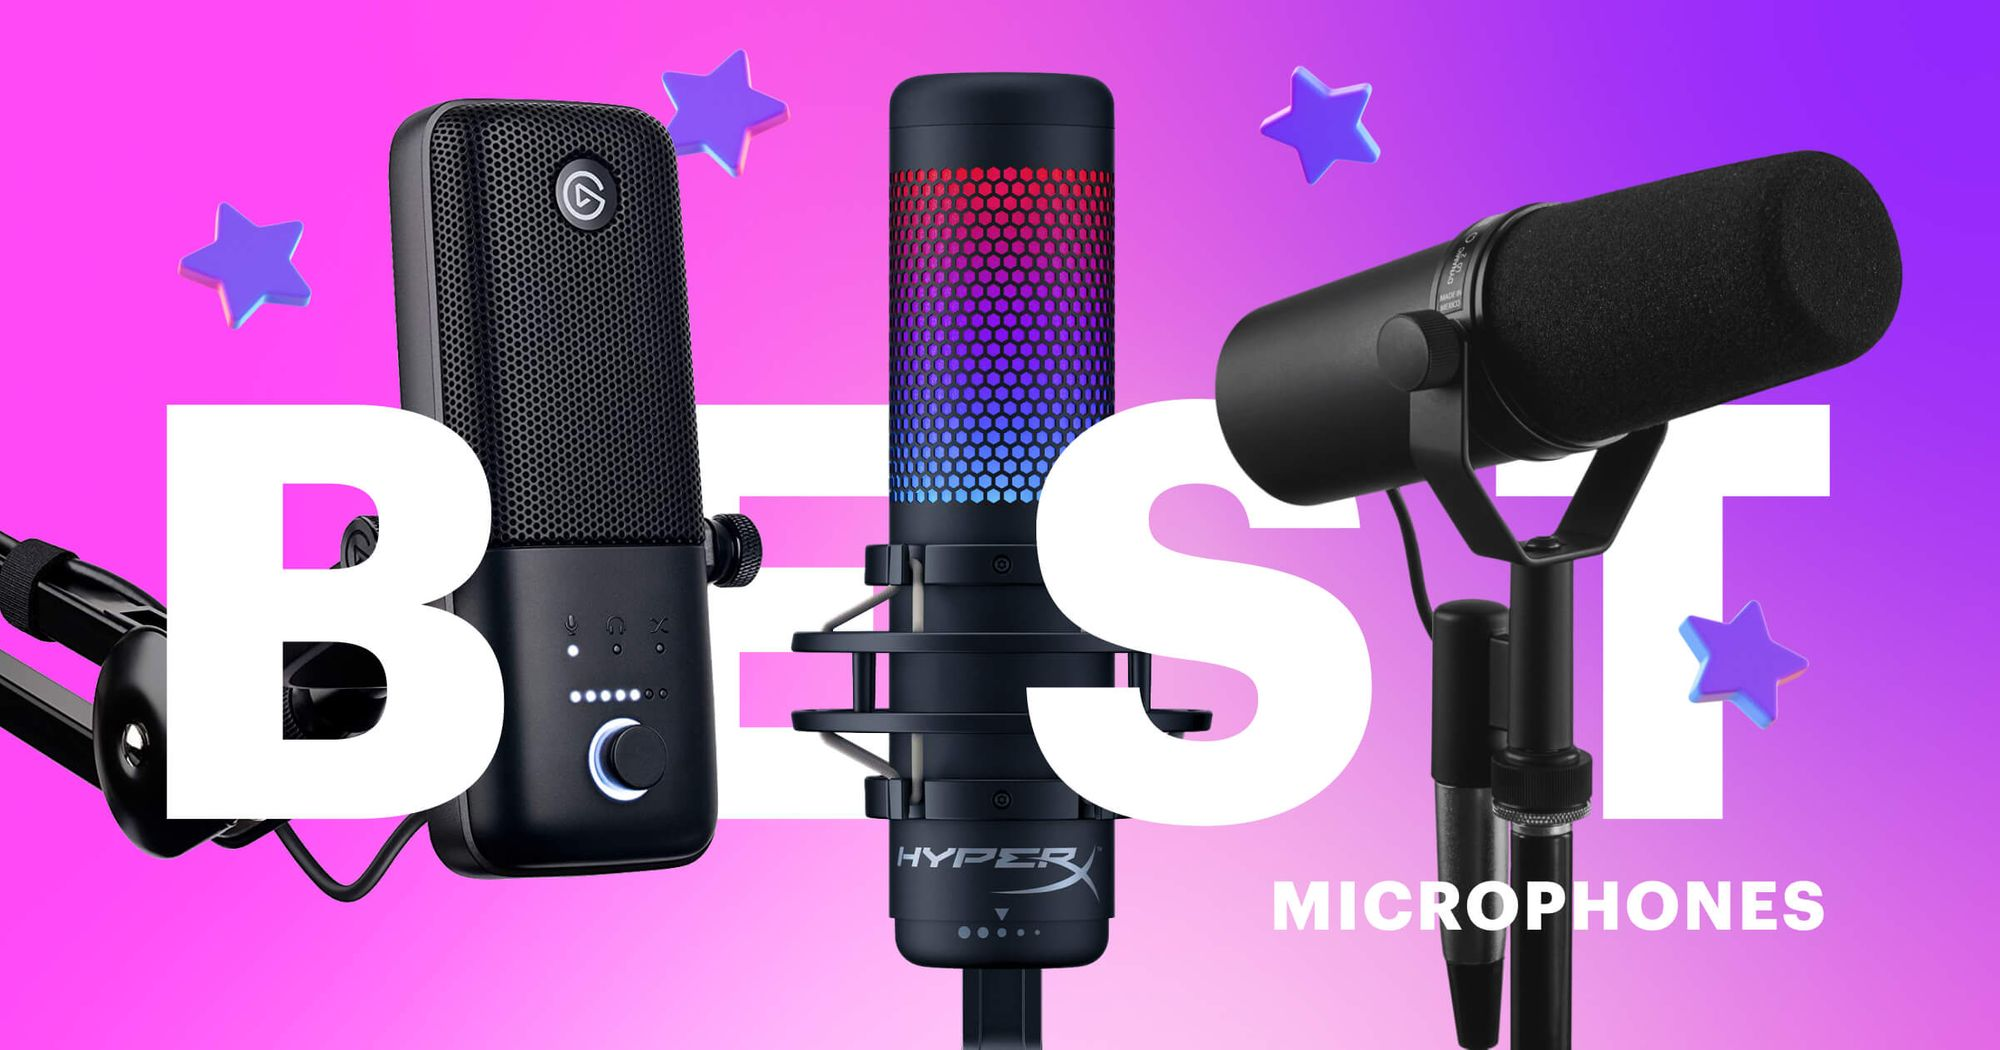microphone: (1206, 141, 1918, 1050), (782, 62, 1218, 1050), (378, 91, 731, 891)
